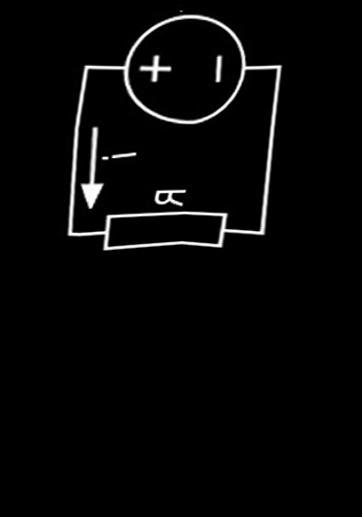Battery: (111, 7, 265, 135)
